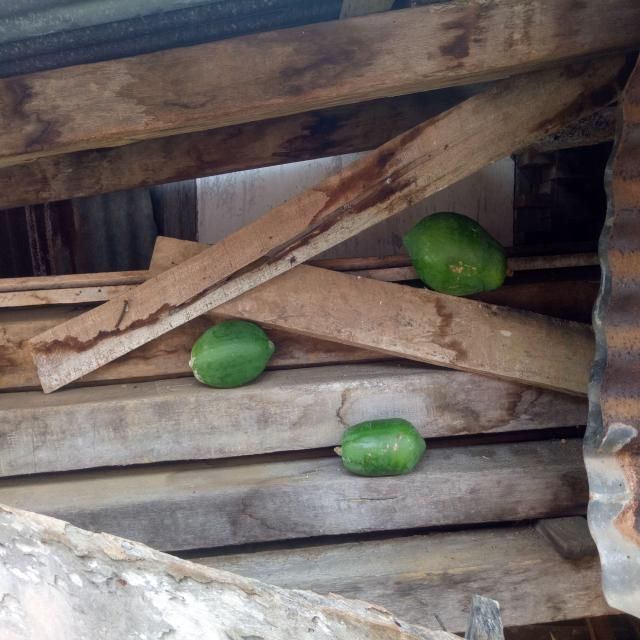Pepaya unrippen: (391, 207, 512, 308), (183, 316, 280, 392), (328, 416, 427, 480)
